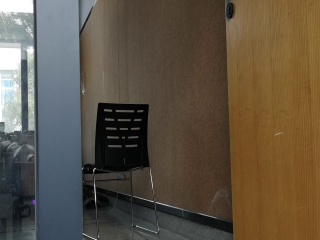room: (1, 5, 320, 236)
